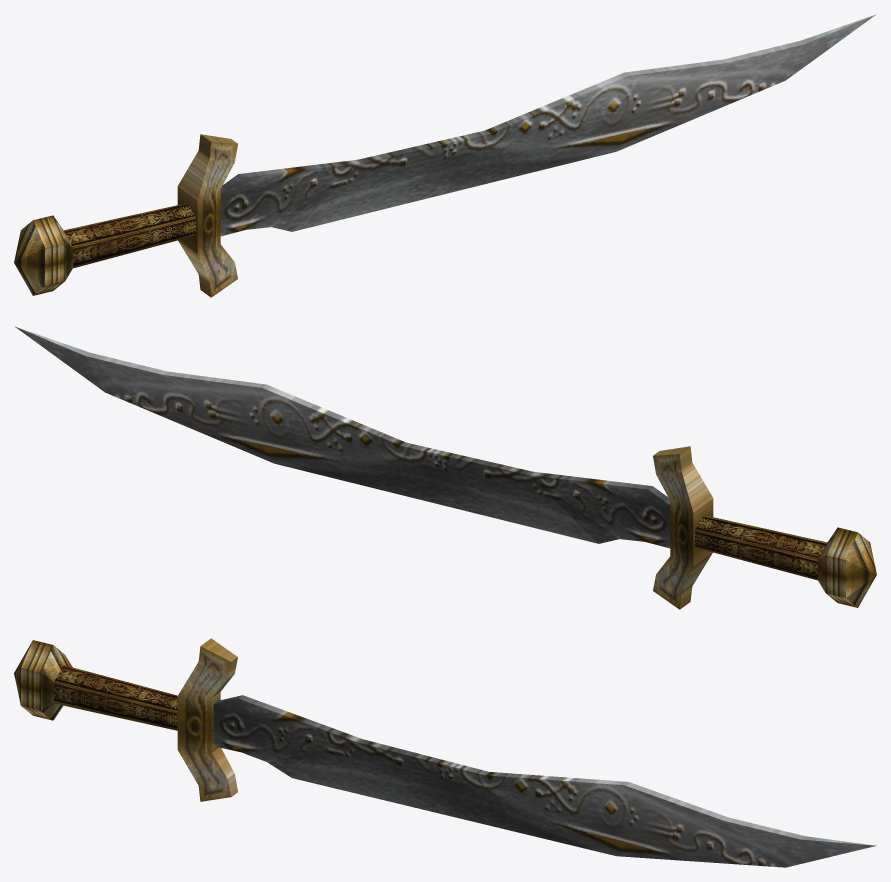
3 views of the same model, one above another, from view 1: azimuth 30°, elevation 25°; view 2: azimuth 150°, elevation 25°; view 3: azimuth 330°, elevation 25° (orthographic).
Parts seen in each view (by area): view 1: IT10545_DMSPRITEDEF_node; view 2: IT10545_DMSPRITEDEF_node; view 3: IT10545_DMSPRITEDEF_node.
Part boxes in pixels (x1=…): IT10545_DMSPRITEDEF_node: x1=14, y1=14, x2=876, y2=297; IT10545_DMSPRITEDEF_node: x1=14, y1=326, x2=876, y2=609; IT10545_DMSPRITEDEF_node: x1=14, y1=638, x2=876, y2=867.
Bounding box in the file's own units: 2.7 × 0.4648 × 0.1316.
Materials: 3 (3 with a texture image).
